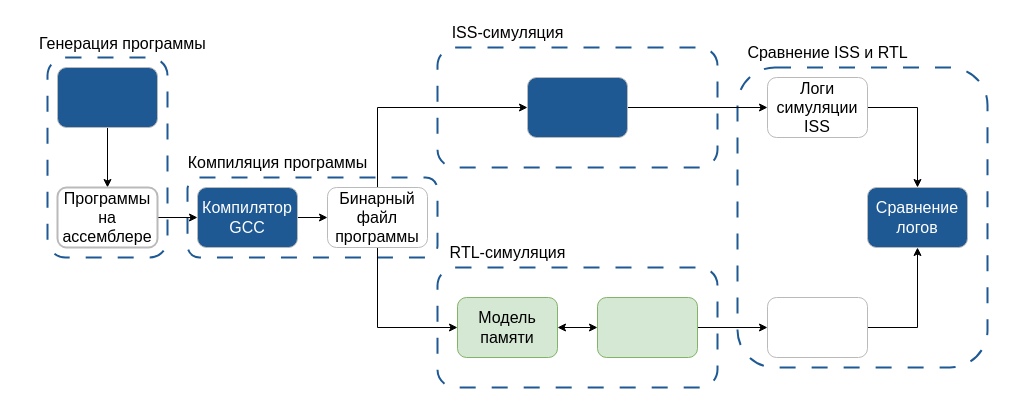
Some shapes in this 1025 by 415 pixel diagram are drawn without their labels. Each missing label, with the centre of its shape:
"Google RISCV-DV" goes at (107,97).
"MIRISCV" goes at (647,327).
"RISC-V ISS" goes at (577,107).
"Логи симуляции MIRISCV" goes at (817,327).
